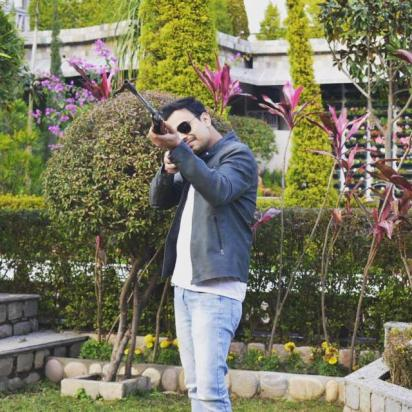Gun: (123, 78, 180, 150)
